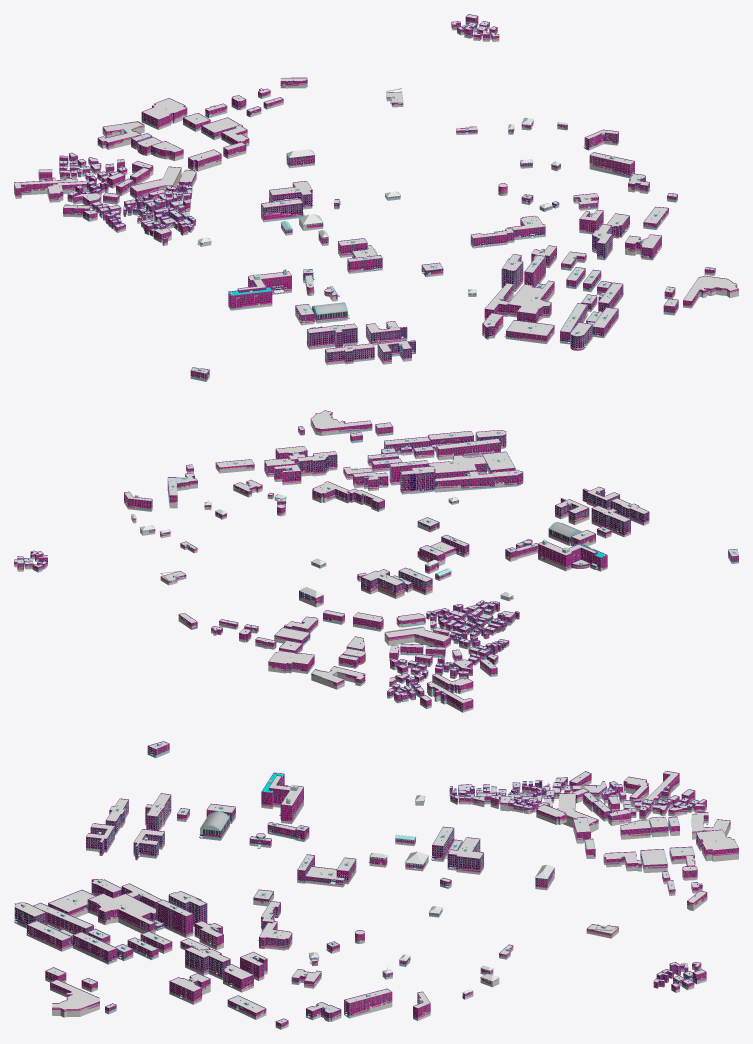
File: campus_buildings.glb
The picture shows the model from 3 angles, top to bottom: view 1: azimuth 30°, elevation 25°; view 2: azimuth 150°, elevation 25°; view 3: azimuth 270°, elevation 25°; orthographic projection. The views are drawn at different scales.
Visible parts, largest first — view 1: bld_222843398, bld_473006251, bld_256932940, bld_603454978, bld_429077753, bld_990030, bld_880321353, bld_224955691, bld_371403603, bld_246156112, bld_429077757, bld_473014385 (+9 smaller); view 2: bld_222843398, bld_429077757, bld_603454978, bld_990031, bld_473006250, bld_473006251, bld_246156123, bld_324328481, bld_429077753, bld_880321353, bld_256932940, bld_429249490 (+11 smaller); view 3: bld_473006251, bld_222843398, bld_603454978, bld_429077753, bld_246156123, bld_429249490, bld_990036, bld_371403603, bld_473014385, bld_990032, bld_990037, bld_990031 (+23 smaller).
Boxes of the visible parts, left/top/right/bottom form: bld_222843398: left=228, top=269, right=291, bottom=310; bld_473006251: left=507, top=280, right=554, bottom=322; bld_256932940: left=307, top=323, right=358, bottom=349; bld_603454978: left=683, top=275, right=738, bottom=308; bld_429077753: left=141, top=98, right=187, bottom=129; bld_990030: left=504, top=320, right=554, bottom=344; bld_880321353: left=97, top=121, right=144, bottom=149; bld_224955691: left=325, top=343, right=375, bottom=365; bld_371403603: left=589, top=152, right=634, bottom=178; bld_246156112: left=261, top=198, right=304, bottom=222; bld_429077757: left=130, top=166, right=181, bottom=198; bld_473014385: left=625, top=234, right=661, bottom=260; bld_222843398: left=538, top=539, right=607, bottom=571; bld_429077757: left=384, top=626, right=451, bottom=648; bld_603454978: left=310, top=410, right=372, bottom=435; bld_990031: left=436, top=438, right=500, bottom=460; bld_473006250: left=435, top=471, right=495, bottom=492; bld_473006251: left=429, top=455, right=486, bottom=478; bld_246156123: left=361, top=569, right=404, bottom=598; bld_324328481: left=400, top=466, right=435, bottom=494; bld_429077753: left=268, top=650, right=314, bottom=673; bld_880321353: left=311, top=666, right=365, bottom=689; bld_256932940: left=591, top=505, right=630, bottom=537; bld_429249490: left=297, top=451, right=337, bottom=476; bld_473006251: left=87, top=893, right=155, bottom=933; bld_222843398: left=261, top=772, right=303, bottom=824; bld_603454978: left=50, top=979, right=99, bottom=1017; bld_429077753: left=696, top=829, right=738, bottom=861; bld_246156123: left=447, top=837, right=483, bottom=874; bld_429249490: left=185, top=946, right=230, bottom=979; bld_990036: left=156, top=899, right=193, bottom=937; bld_371403603: left=344, top=988, right=392, bottom=1018; bld_473014385: left=169, top=973, right=210, bottom=1004; bld_990032: left=72, top=931, right=117, bottom=964; bld_990037: left=26, top=920, right=72, bottom=951; bld_990031: left=33, top=902, right=93, bottom=933.
Size of the model in its own units: 1075 by 108 by 1136.
